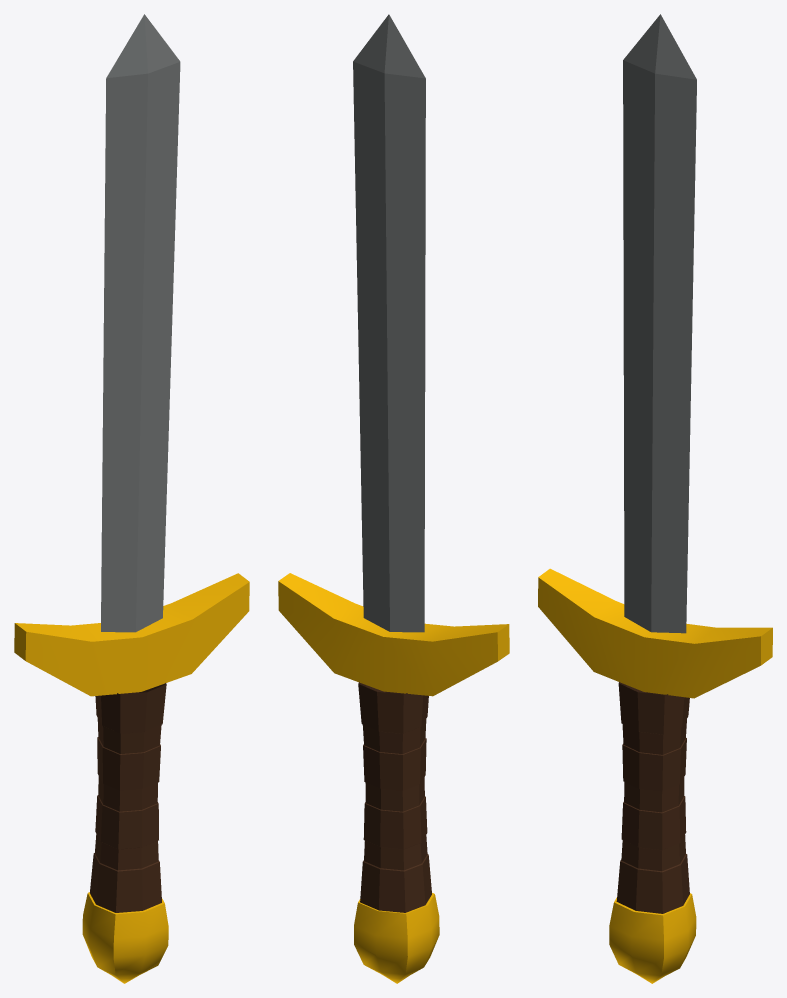
The model's file is Sword.glb.
3 views of the same model, side by side, from view 1: azimuth 30°, elevation 25°; view 2: azimuth 150°, elevation 25°; view 3: azimuth 330°, elevation 25° (orthographic).
Parts seen in each view (by area): view 1: Sword; view 2: Sword; view 3: Sword.
Boxes of the visible parts, x1,y1,x2,y2 form: Sword: (14, 14, 249, 983); Sword: (278, 14, 509, 983); Sword: (538, 14, 772, 983).
Bounding box in the file's own units: 0.3196 × 1.33 × 0.1016.
